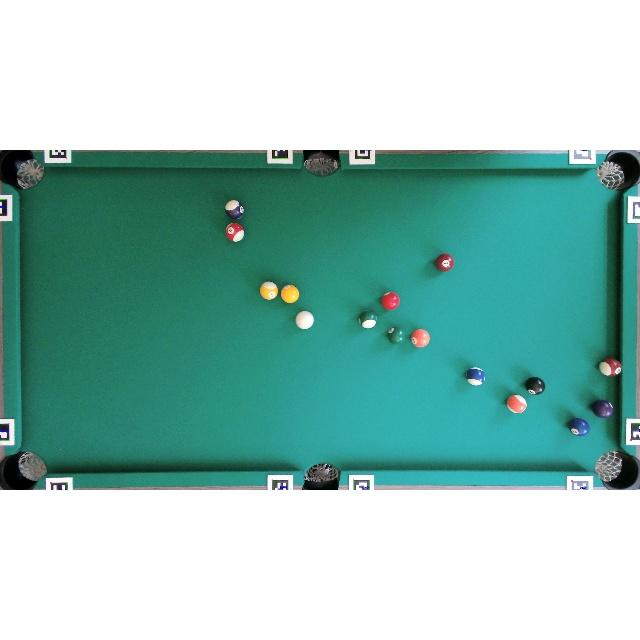cue ball: (295, 310, 314, 330)
other: (590, 400, 614, 418), (506, 394, 527, 414), (599, 358, 621, 377), (280, 284, 300, 304), (225, 200, 244, 220), (386, 326, 406, 345), (358, 310, 378, 329), (568, 418, 589, 436), (466, 367, 485, 386), (411, 329, 430, 348), (381, 291, 400, 310), (525, 377, 545, 395), (226, 223, 244, 242), (435, 254, 454, 272), (260, 281, 278, 300)
